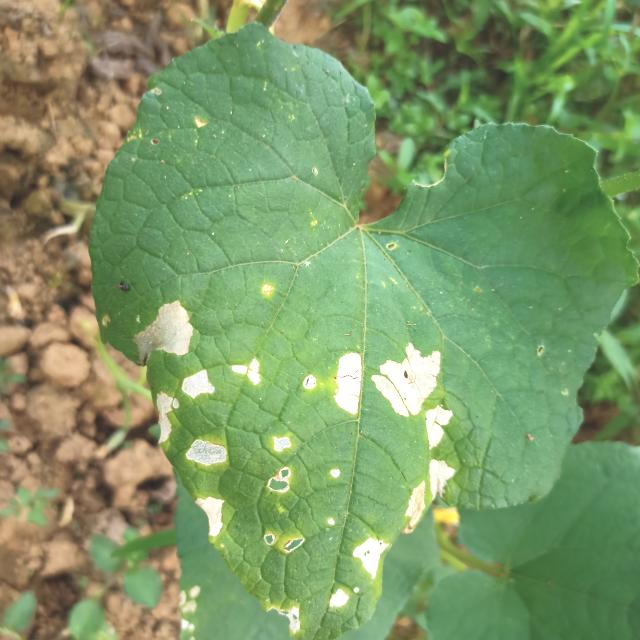disease_cucumber: (333, 344, 440, 420), (155, 368, 215, 446), (328, 537, 384, 608), (134, 298, 197, 360), (406, 458, 454, 523), (264, 432, 294, 496), (188, 436, 226, 470), (198, 494, 226, 538), (426, 406, 452, 450), (233, 360, 262, 389)
